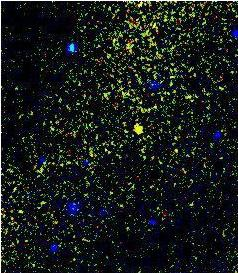star: (119, 114, 149, 144)
